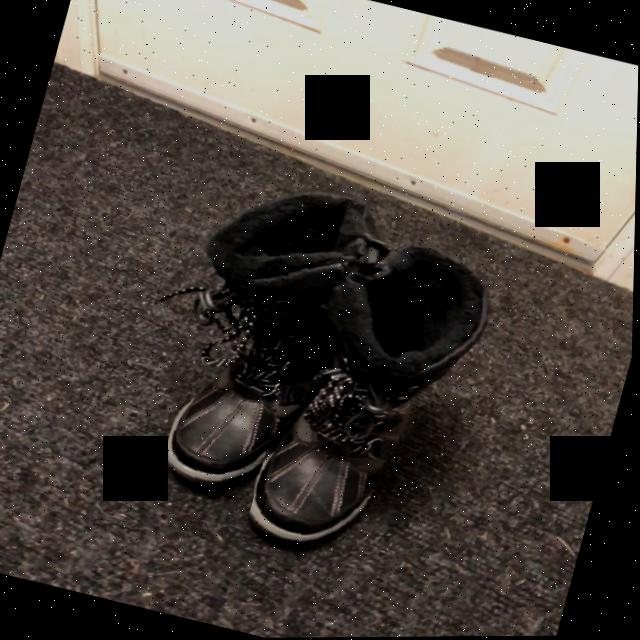shoe: (250, 369, 416, 555), (165, 357, 327, 492)
